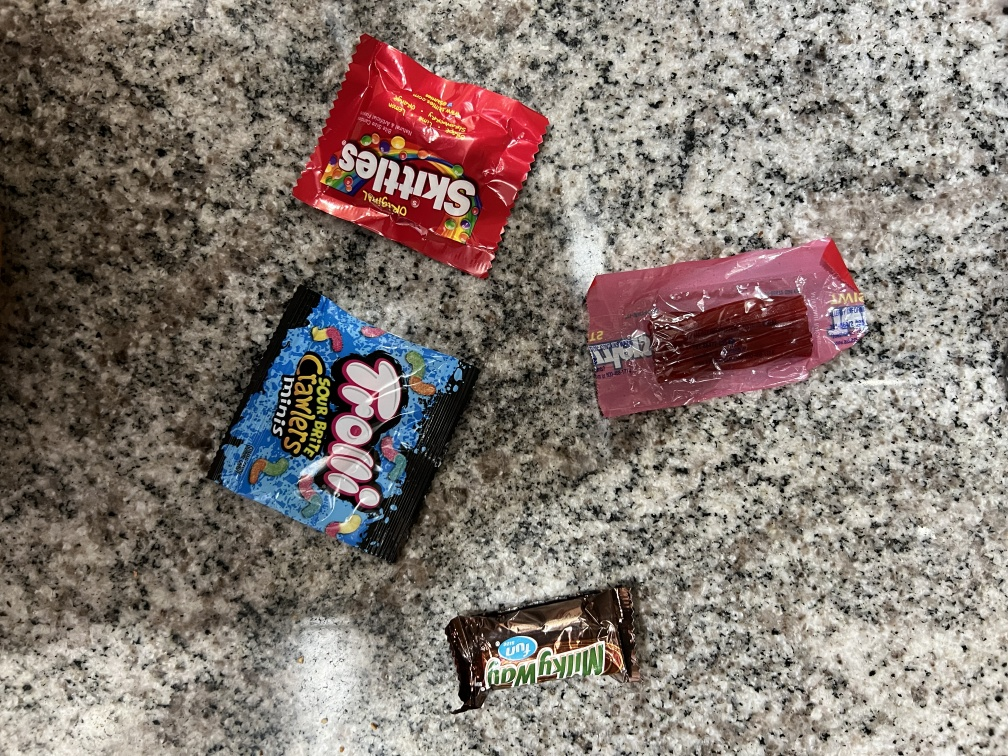gummy_worms: (190, 269, 474, 577)
milky_way: (418, 595, 686, 714)
skittles: (284, 28, 536, 278)
twizzlers: (563, 243, 882, 420)
